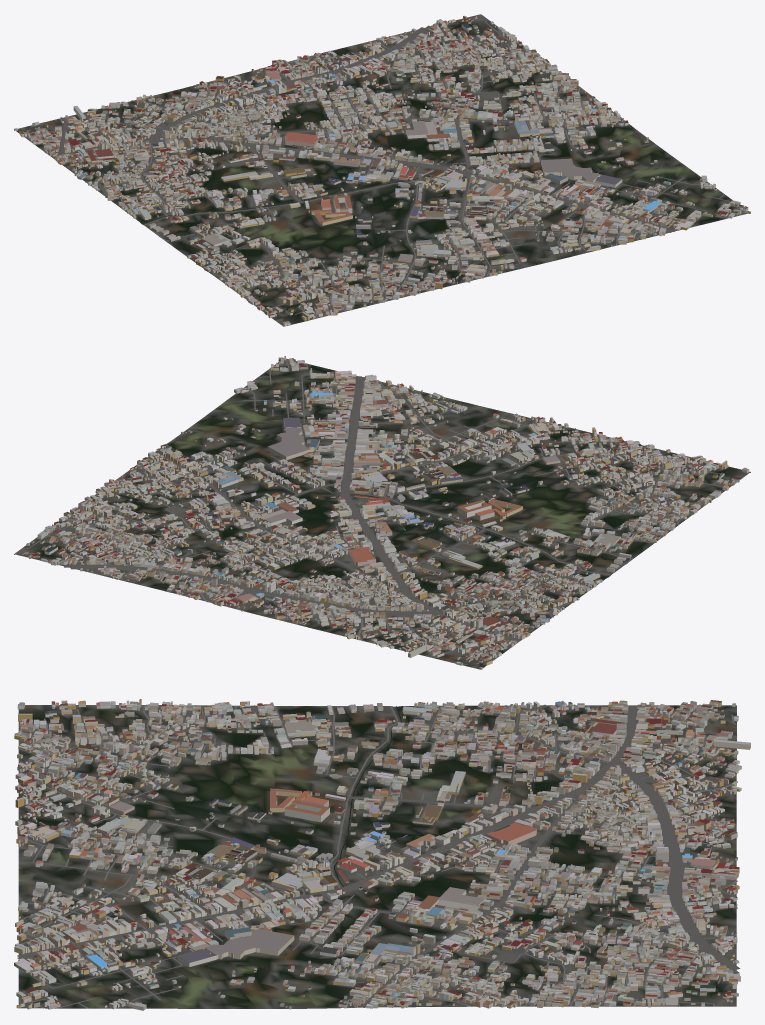
3 views of the same model, one above another, from view 1: azimuth 30°, elevation 25°; view 2: azimuth 150°, elevation 25°; view 3: azimuth 270°, elevation 25° (orthographic). The views are drawn at different scales.
Parts seen in each view (by area): view 1: buildings, ground, roads; view 2: buildings, ground, roads; view 3: buildings, ground, roads.
Part boxes in pixels (box(x1,y1,x2,y2)): buildings: box(14, 15, 750, 325); ground: box(16, 14, 746, 326); roads: box(28, 20, 747, 318); buildings: box(22, 356, 749, 669); ground: box(14, 358, 750, 669); roads: box(22, 358, 722, 664); buildings: box(14, 699, 750, 1010); ground: box(18, 705, 736, 1008); roads: box(17, 704, 740, 1008).
Size of the model in its own units: 1415 by 31.63 by 1437.
